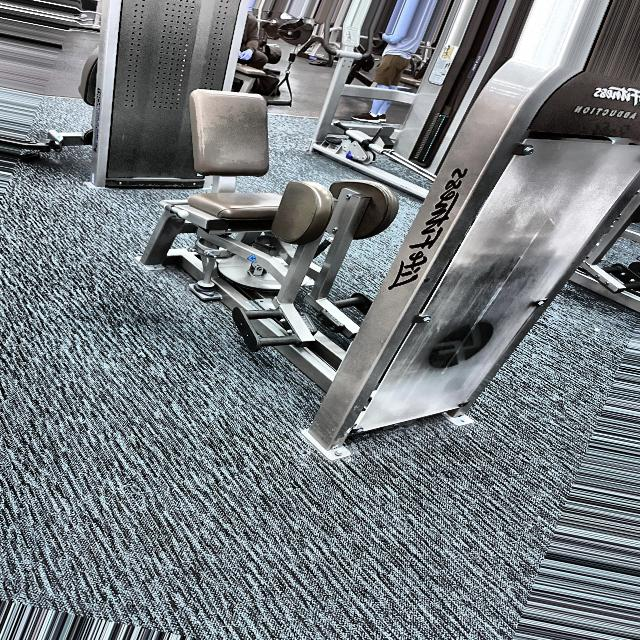hip_adduction_machine: (184, 63, 375, 387), (545, 104, 637, 128)
